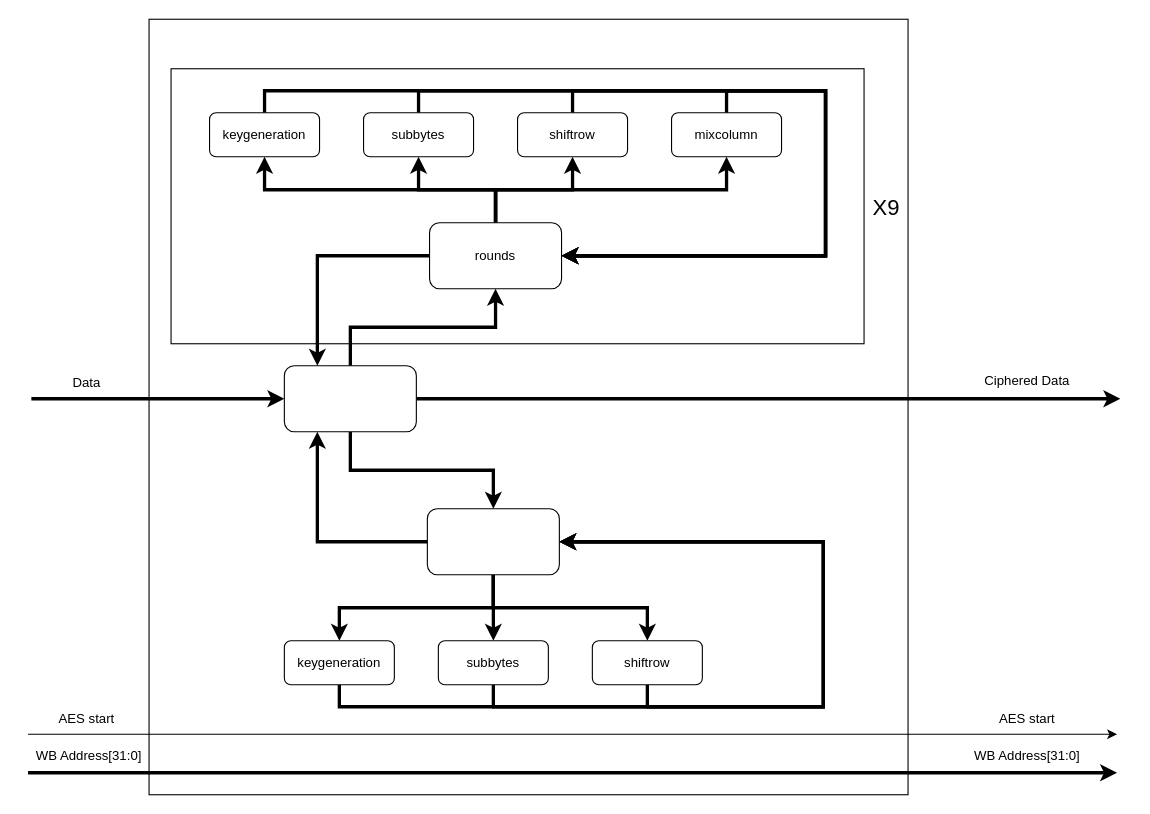
Image size: 1150x814. Some labels were removed from this diagram. The centre of each missing label's shape, as x and y in pixels:
"riscv_aes_cipher" belongs at (349,398).
"roundlast" belongs at (492,541).
